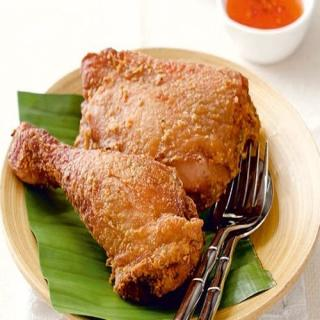fried_chicken_rice: (1, 21, 275, 299)
meat: (6, 117, 208, 302), (79, 42, 264, 205)
